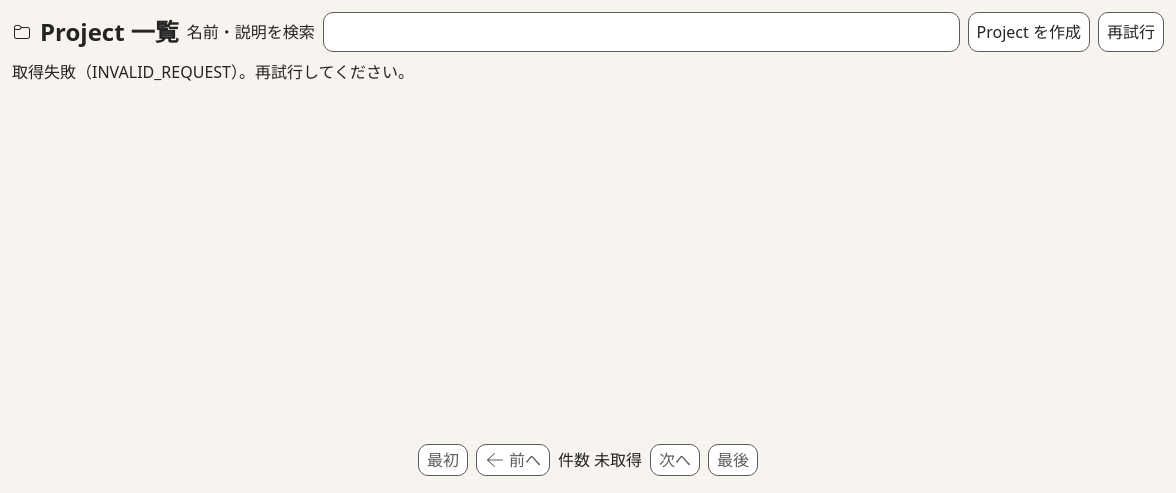
Scenario: ProjectListPage › allows list retry independently of the INVALID_REQUEST API failure
The image size is (1176, 493).
Click the button "再試行" at {"x": 1131, "y": 32}, box [1098,12,1164,52]
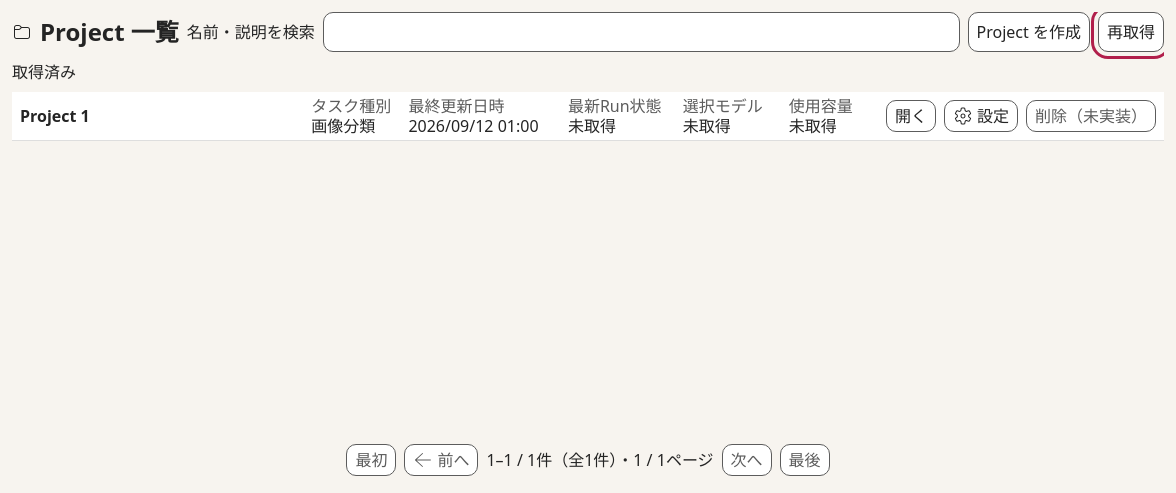
Now the text "取得済み" is shown, box [12,61,76,83]
Now the number of list items is 1, box [12,92,1164,141]
